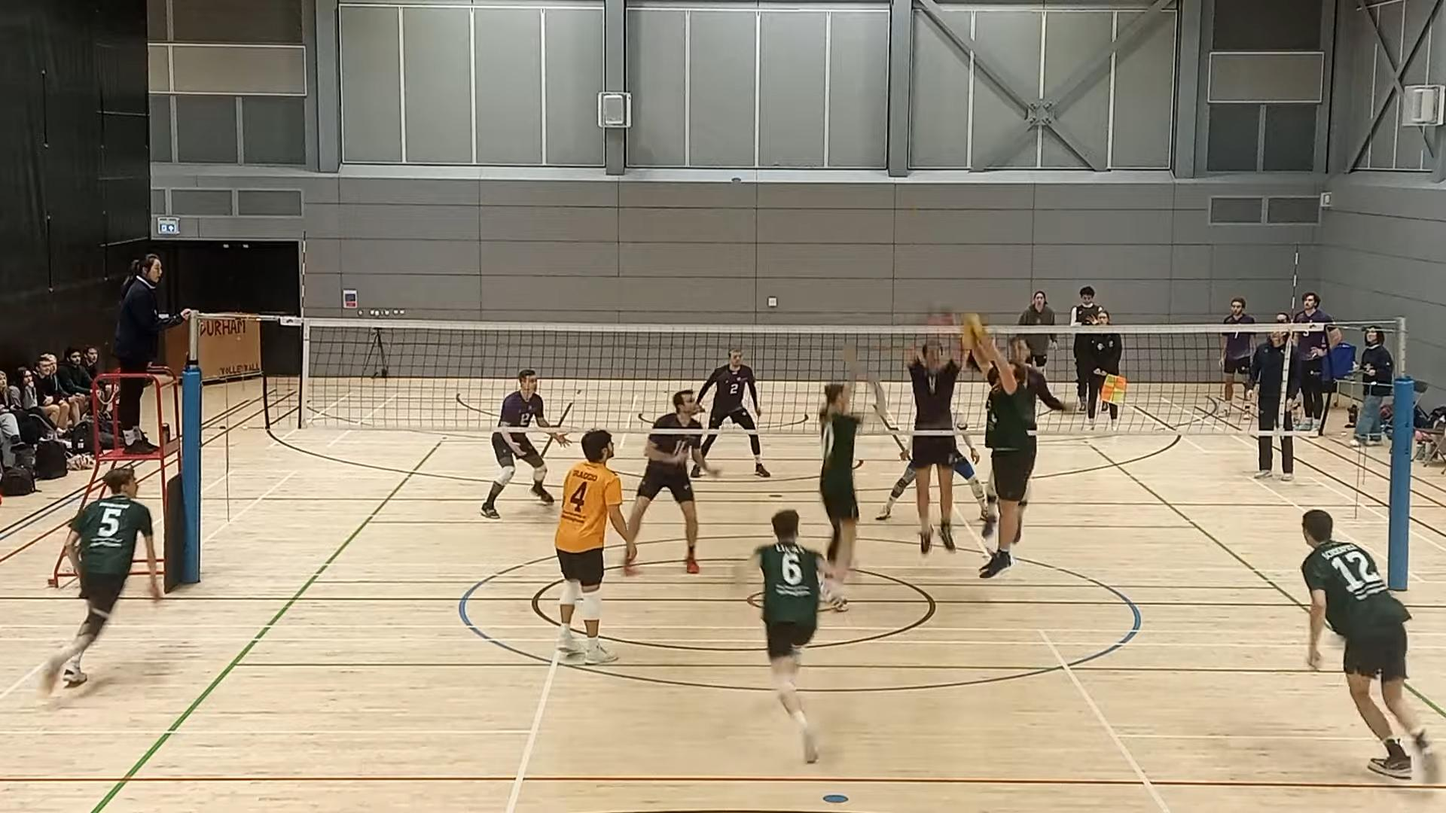Player: (1301, 510, 1438, 783), (40, 467, 160, 696), (749, 510, 830, 763), (554, 431, 636, 664), (627, 390, 716, 573), (906, 340, 960, 553), (819, 382, 861, 610), (697, 348, 770, 477), (480, 432, 554, 519), (1010, 338, 1071, 412), (952, 424, 989, 519)
Set: (973, 331, 1037, 583)
ball: (961, 313, 985, 342)
